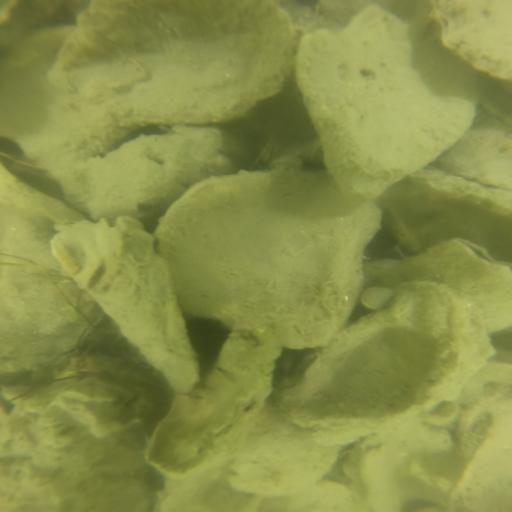Oyster-Closed: (154, 171, 390, 348), (299, 11, 486, 202), (47, 1, 294, 123), (52, 218, 206, 397), (142, 329, 282, 480), (1, 209, 108, 371), (357, 239, 512, 335), (384, 170, 512, 278), (429, 3, 512, 81)
